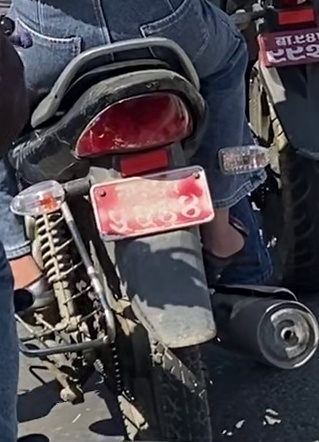license_plate: (92, 165, 214, 239), (260, 28, 318, 66)
